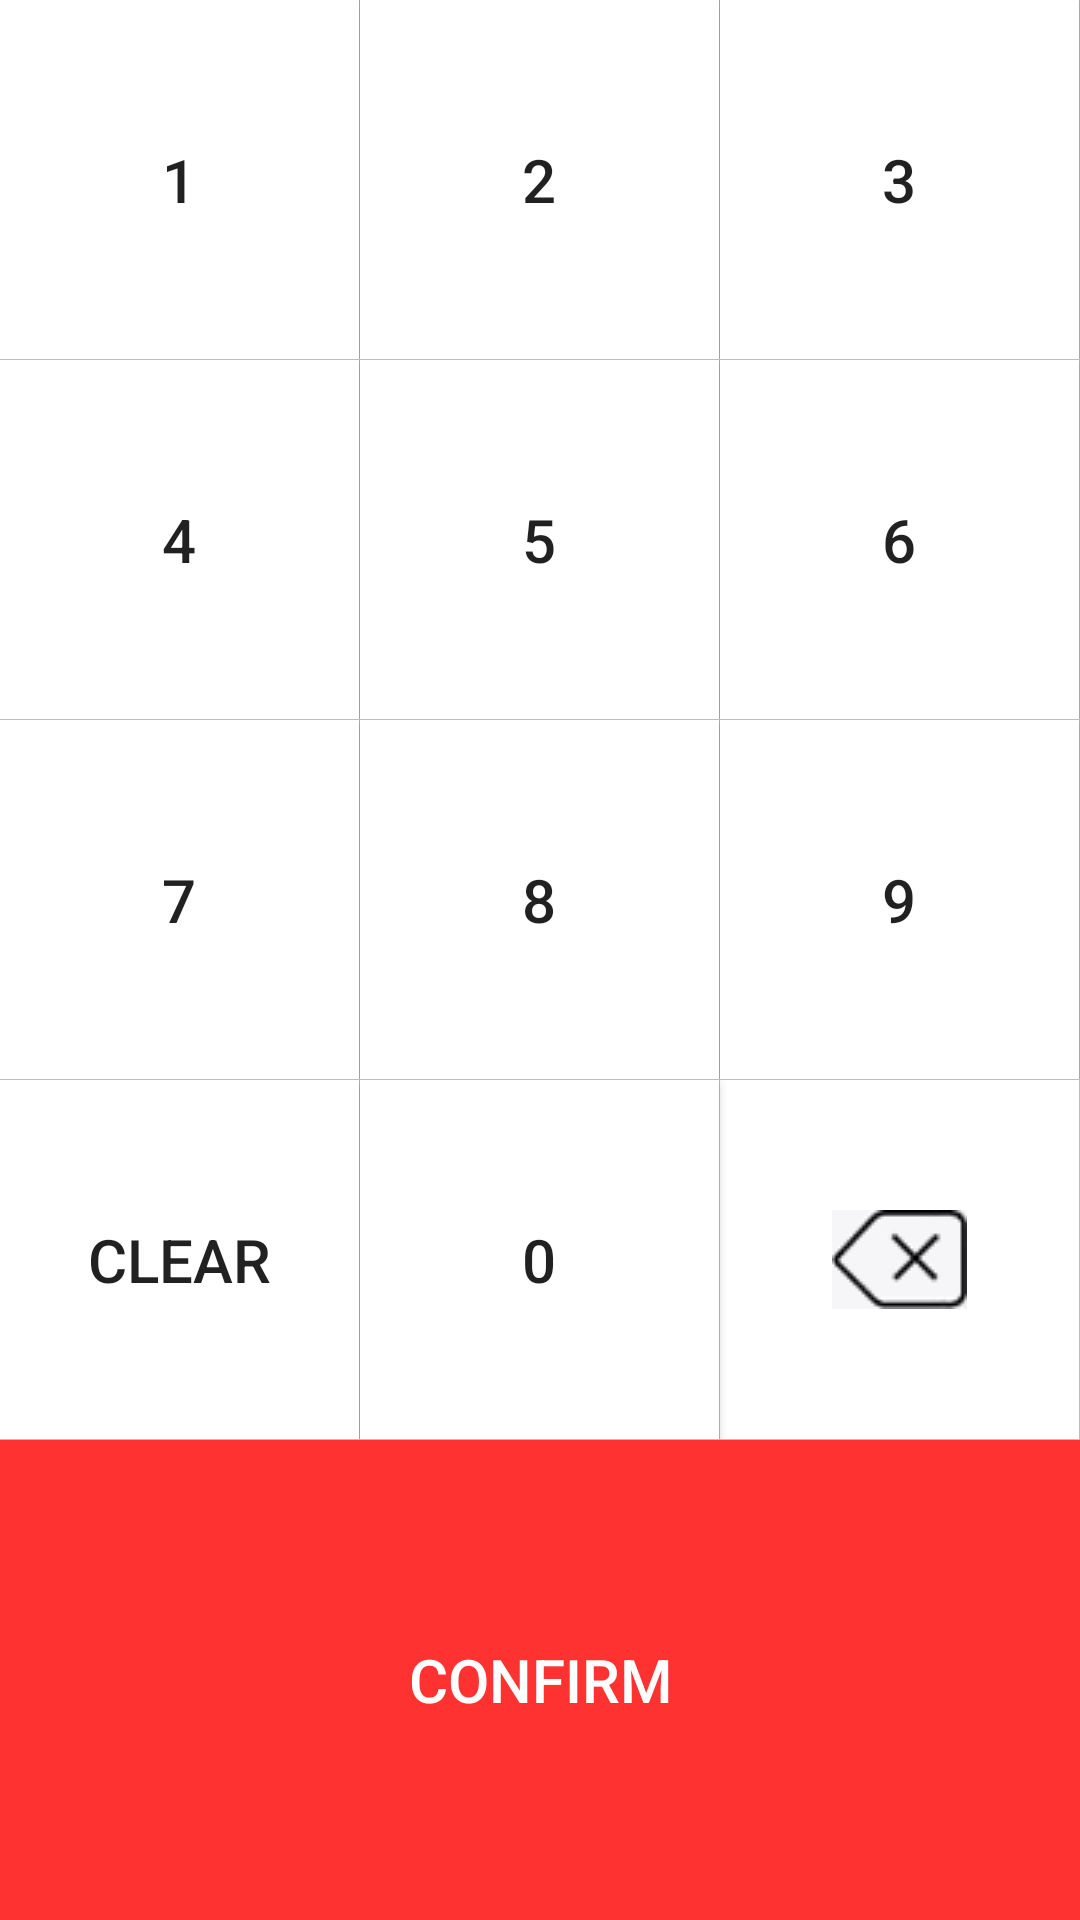

Point at icon controls on the screen. Image size 1080px×1920px, points as (x,y).
key back: (899,1259)
